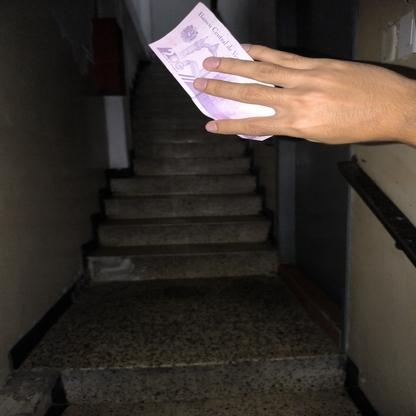one_hundred-back-vef: (148, 1, 276, 141)
